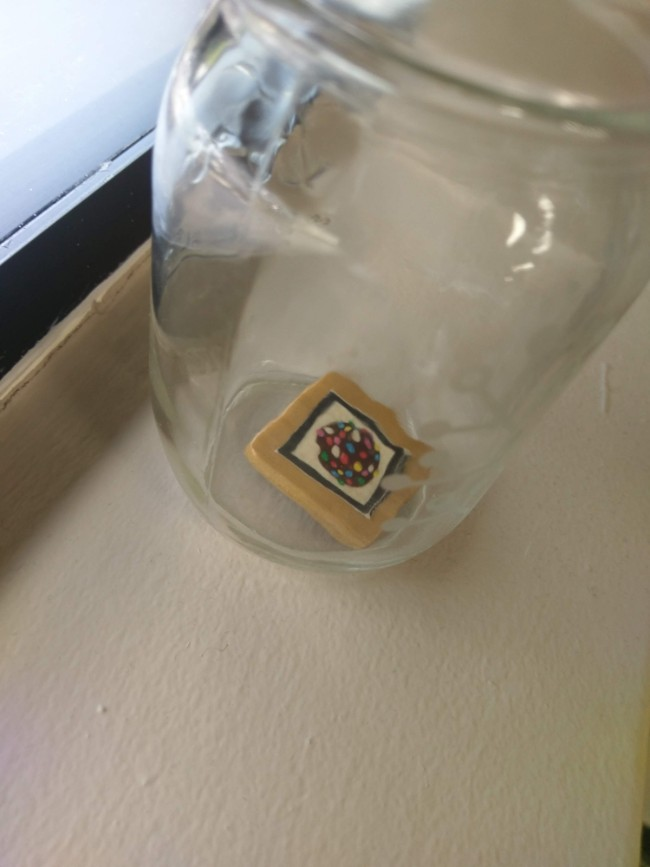cookie: (277, 389, 411, 520)
